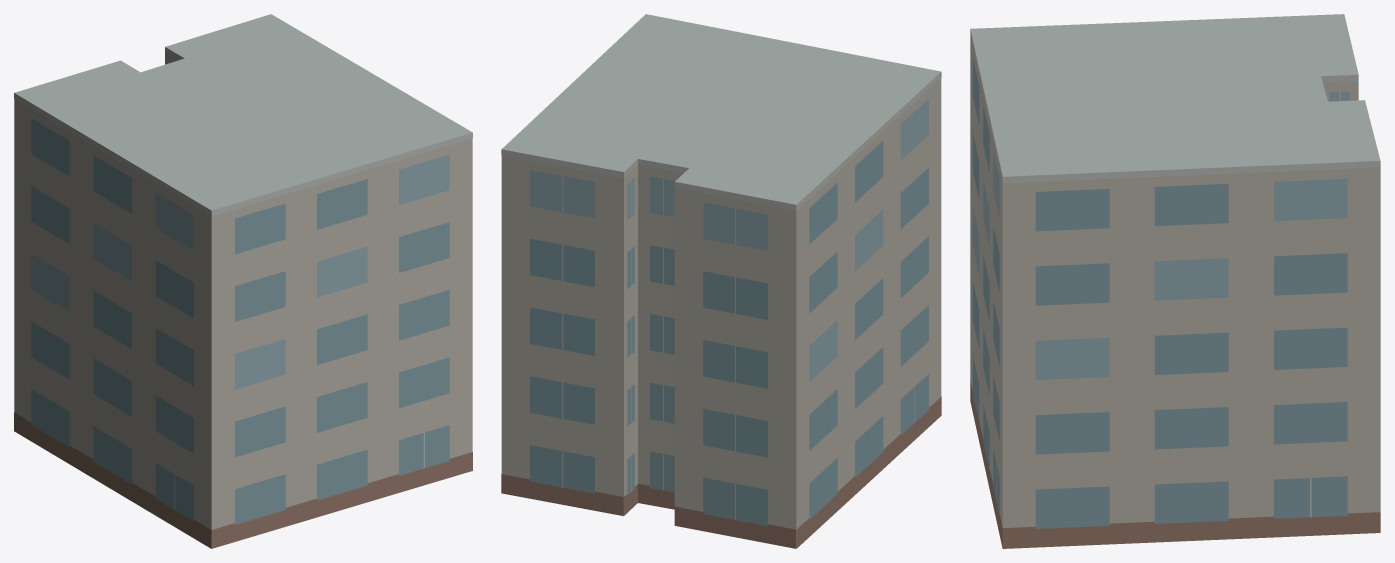
The model's file is survey-upis-32653059.glb.
The picture shows the model from 3 angles, left to right: view 1: azimuth 30°, elevation 25°; view 2: azimuth 150°, elevation 25°; view 3: azimuth 270°, elevation 25°; orthographic projection. The views are drawn at different scales.
Parts seen in each view (by area): view 1: survey-upis-32653059.tmp; view 2: survey-upis-32653059.tmp; view 3: survey-upis-32653059.tmp.
Part boxes in pixels (x1,y1,x2,y2): survey-upis-32653059.tmp: (14,14,472,548); survey-upis-32653059.tmp: (501,14,941,548); survey-upis-32653059.tmp: (970,14,1380,548).
Bounding box in the file's own units: 13.06 × 13.9 × 13.9.
